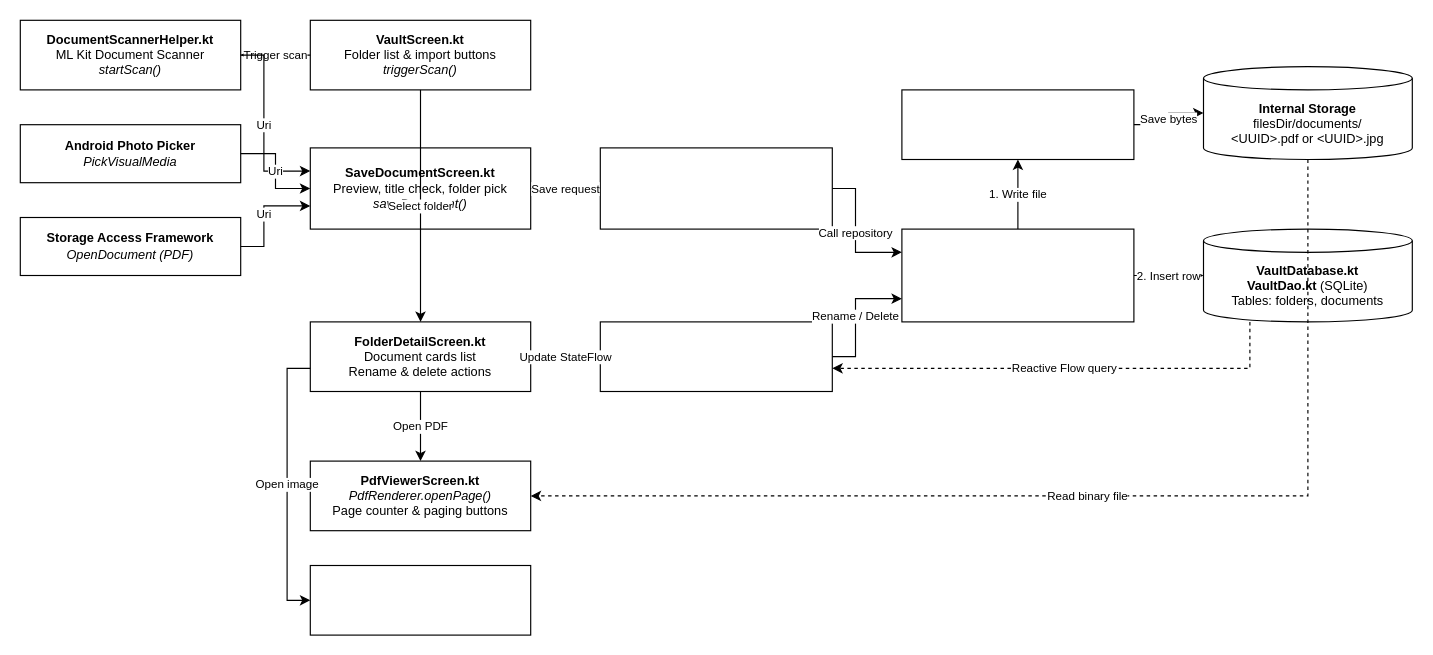
Some shapes in this 1433 by 655 pixel diagram are drawn without their labels. Here are the shapes that lost their labels. From the top down, the centre of each, then its label:
the point at 1017,124: FileStorageManager.kt copyUriToInternalStorage() deleteFile()
the point at 715,188: SaveDocumentViewModel.kt Loads preview bitmap saveDocument()
the point at 1017,275: VaultRepository.kt saveDocument() createFolder() deleteDocument()
the point at 715,356: VaultViewModel.kt FolderDetailViewModel.kt StateFlow document streams
the point at 420,599: ImageViewerScreen.kt BitmapFactory.decodeFile() Pinch-to-zoom & pan gestures
